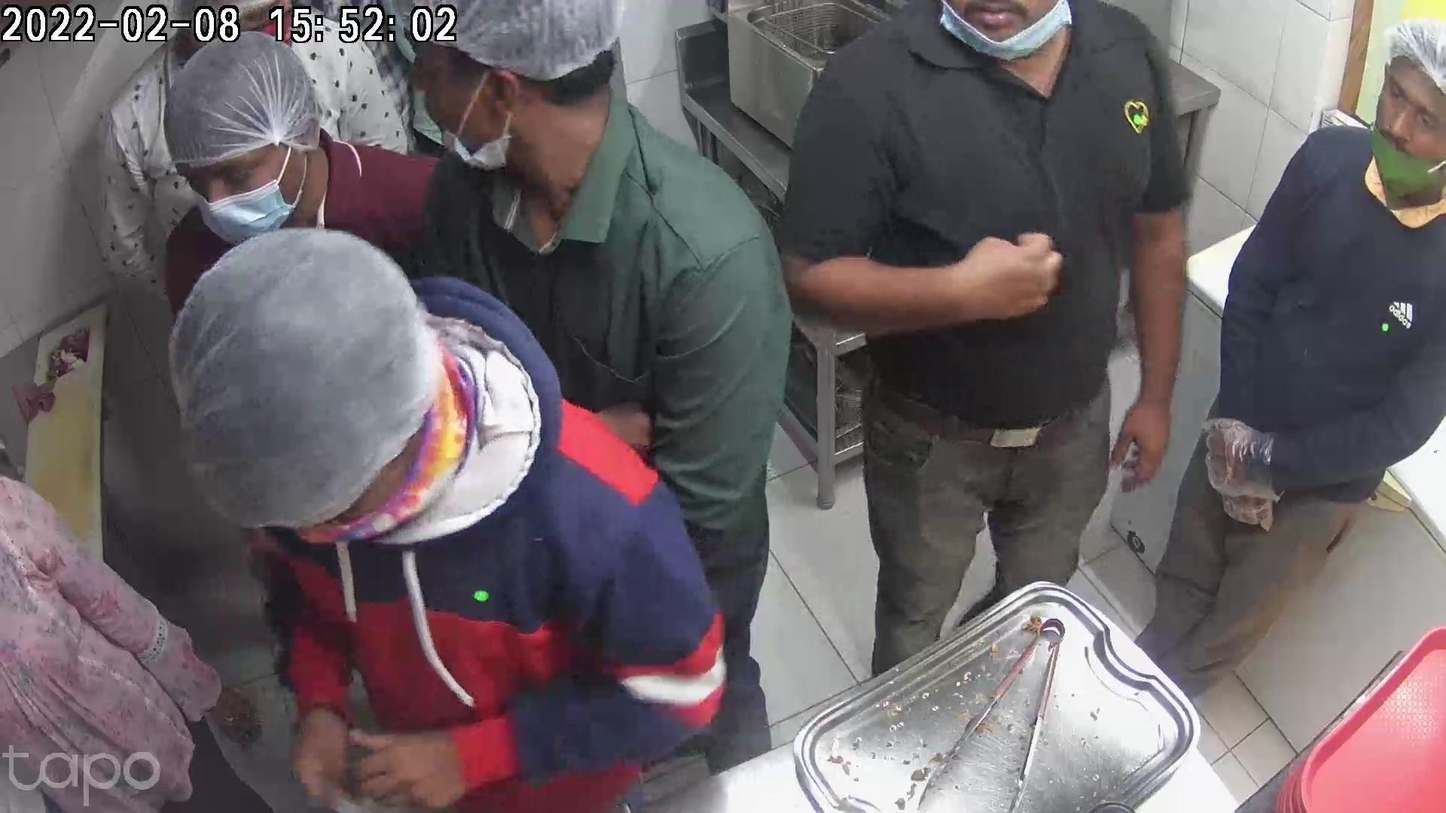no_gloves: (922, 232, 1060, 325)
